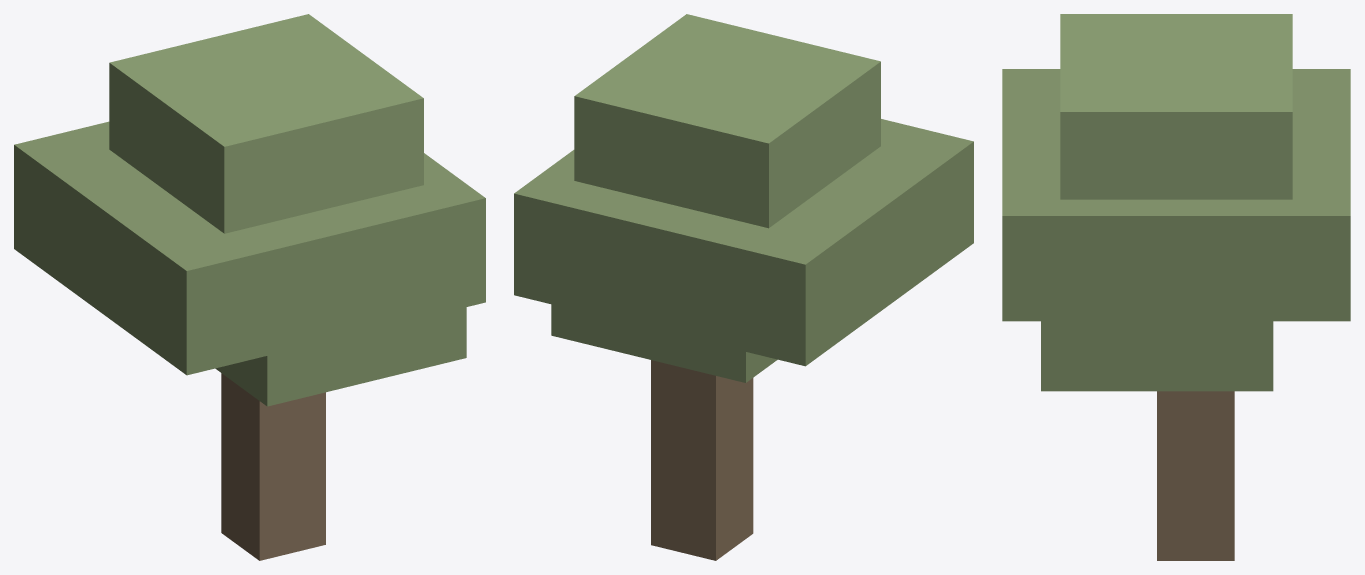
File: avellano_03.glb
The picture shows the model from 3 angles, left to right: view 1: azimuth 30°, elevation 25°; view 2: azimuth 150°, elevation 25°; view 3: azimuth 270°, elevation 25°; orthographic projection. The views are drawn at different scales.
Visible parts, largest first — view 1: avellano_03; view 2: avellano_03; view 3: avellano_03.
Boxes of the visible parts, x1,y1,x2,y2 form: avellano_03: [14, 14, 485, 560]; avellano_03: [514, 14, 973, 560]; avellano_03: [1002, 14, 1350, 560].
Size of the model in its own units: 1.8 by 2.7 by 1.8.
